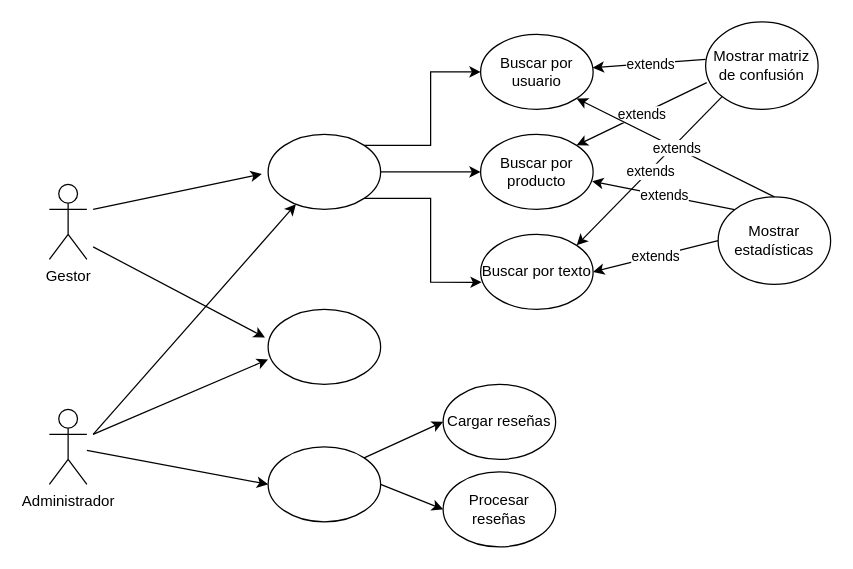
Some shapes in this 853 by 569 pixel diagram are drawn without their labels. Each missing label, with the box of its shape:
Administrar aplicación: (267, 446, 381, 522)
Cambiar idioma: (267, 308, 381, 384)
Mostrar Información: (267, 133, 381, 209)
